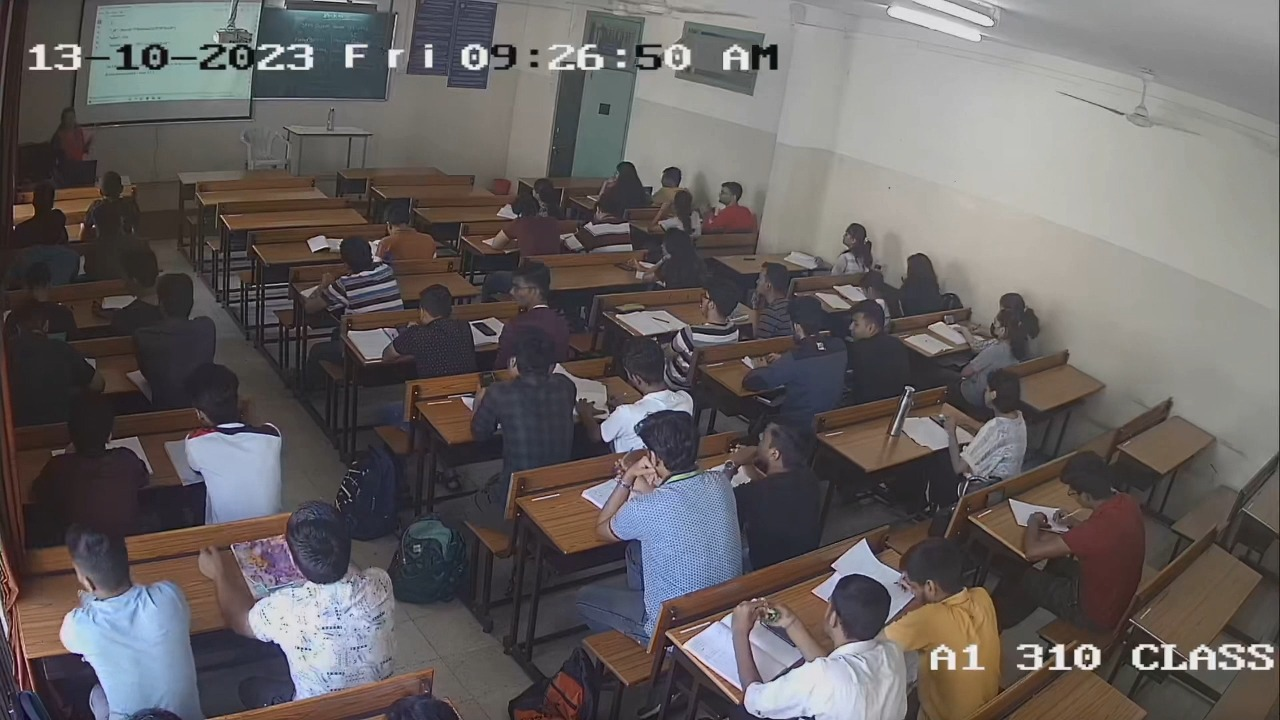cell-phones: (611, 300, 650, 315), (928, 413, 957, 431), (471, 321, 498, 337), (477, 370, 496, 388), (613, 262, 635, 273), (393, 321, 410, 335), (942, 312, 958, 325)
person: (468, 325, 577, 463), (380, 283, 479, 373), (950, 368, 1027, 479), (496, 261, 573, 334), (960, 309, 1030, 389), (671, 279, 740, 345), (641, 226, 708, 289)
